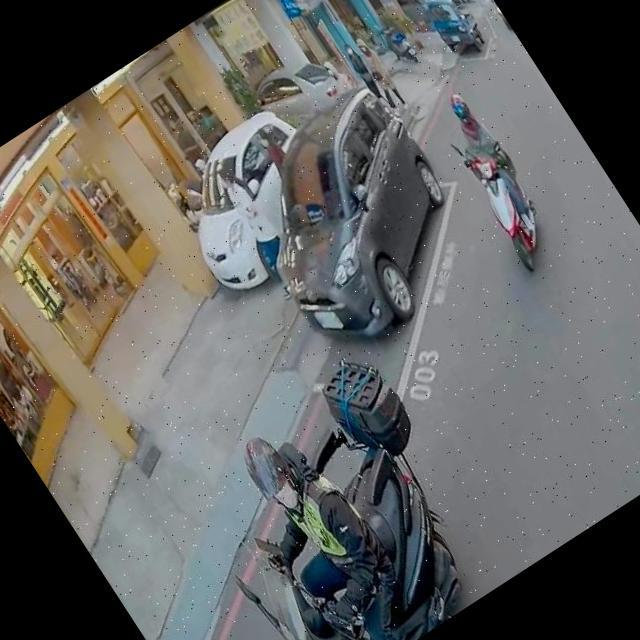person: (195, 401, 436, 640), (428, 85, 554, 248), (200, 156, 312, 298), (342, 28, 414, 122), (336, 38, 398, 120), (247, 120, 296, 178), (313, 52, 355, 100)
